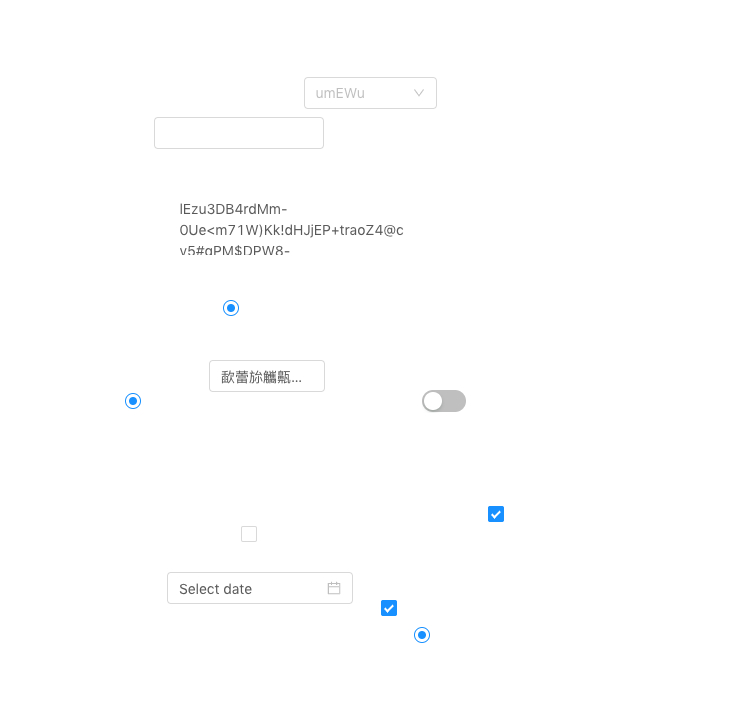Checkbox: (381, 597, 397, 618), (488, 503, 504, 524), (241, 523, 257, 544)
DatePicker: (167, 572, 353, 604)
Input: (154, 117, 334, 149), (209, 360, 325, 392)
Radio: (223, 297, 239, 317), (125, 390, 141, 410), (414, 624, 430, 644)
Select: (304, 77, 437, 109)
Switch: (422, 389, 466, 413)
Text: (180, 198, 405, 255)
